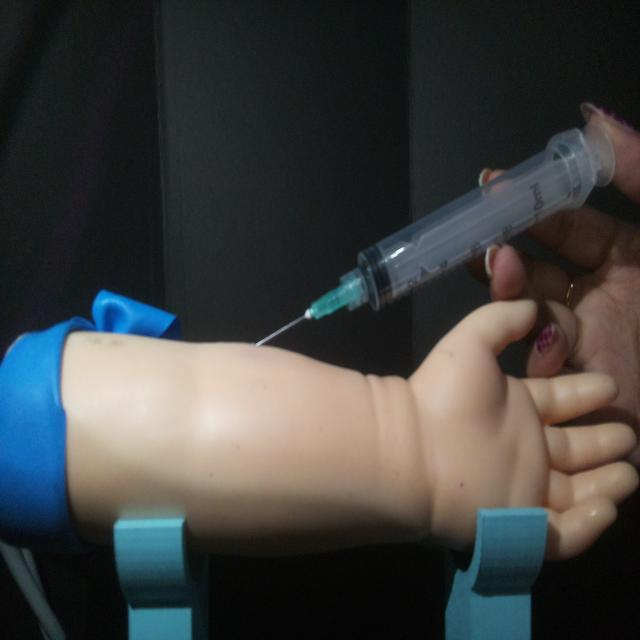27deg: (250, 107, 618, 351)
